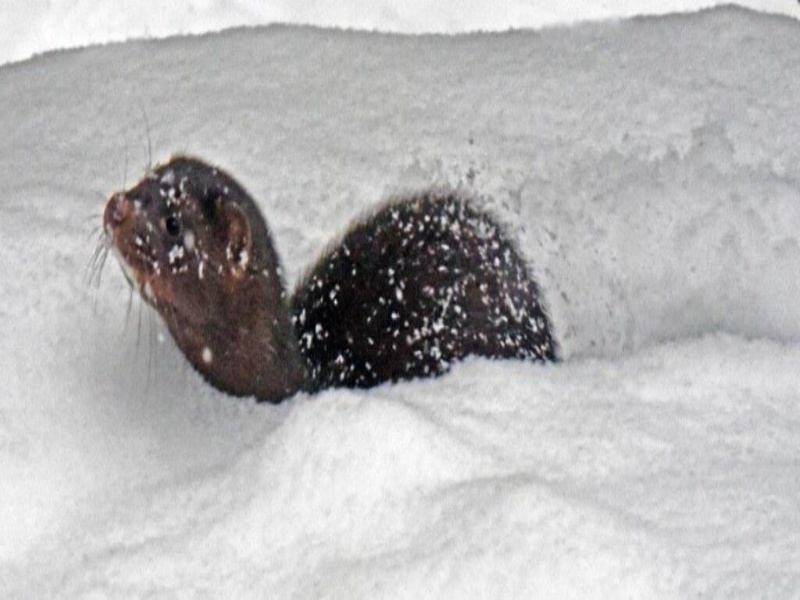minkish: (92, 147, 562, 415)
